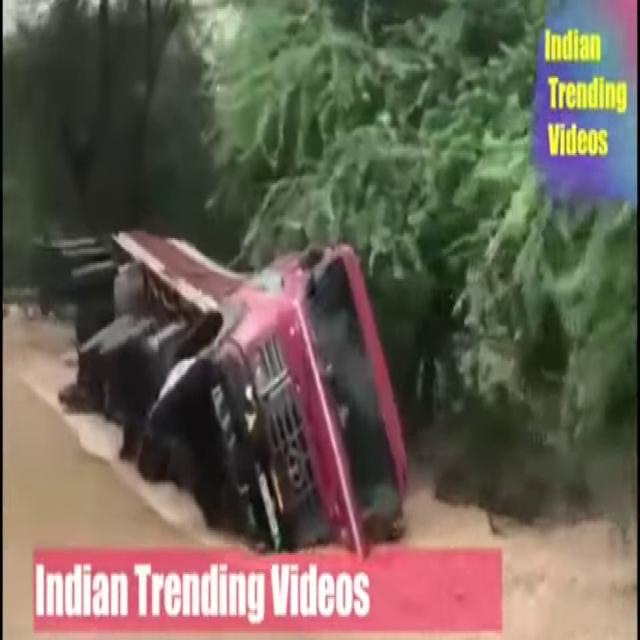accident: (52, 197, 414, 558)
